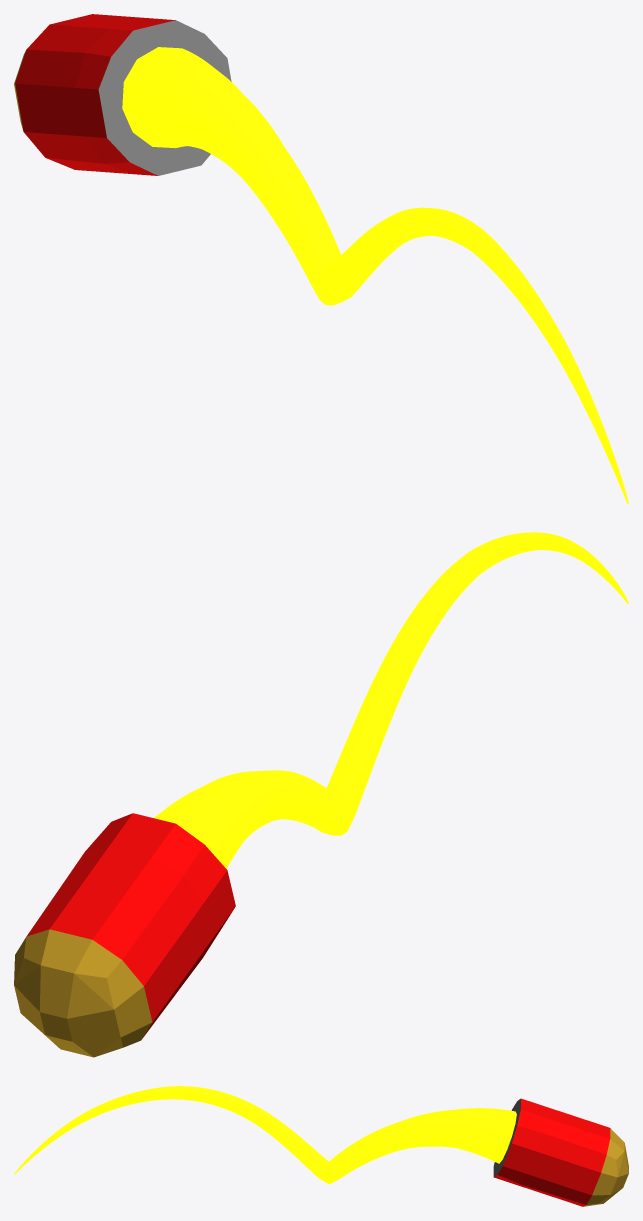
File: GrenadeBoost.fbx
3 views of the same model, one above another, from view 1: azimuth 30°, elevation 25°; view 2: azimuth 150°, elevation 25°; view 3: azimuth 270°, elevation 25° (orthographic). The views are drawn at different scales.
Parts seen in each view (by area): view 1: Cube; view 2: Cube; view 3: Cube.
Part boxes in pixels (x1,y1,x2,y2): Cube: (14,14,628,503); Cube: (14,532,628,1057); Cube: (14,1086,628,1206).
Size of the model in its own units: 18.63 by 29.59 by 144.
